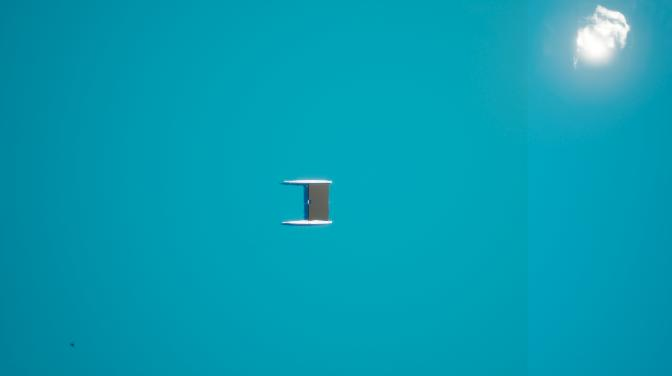boat: (281, 178, 333, 230)
drone: (68, 340, 76, 352)
land_base: (309, 184, 328, 220)
light_reflex: (524, 3, 661, 99)
